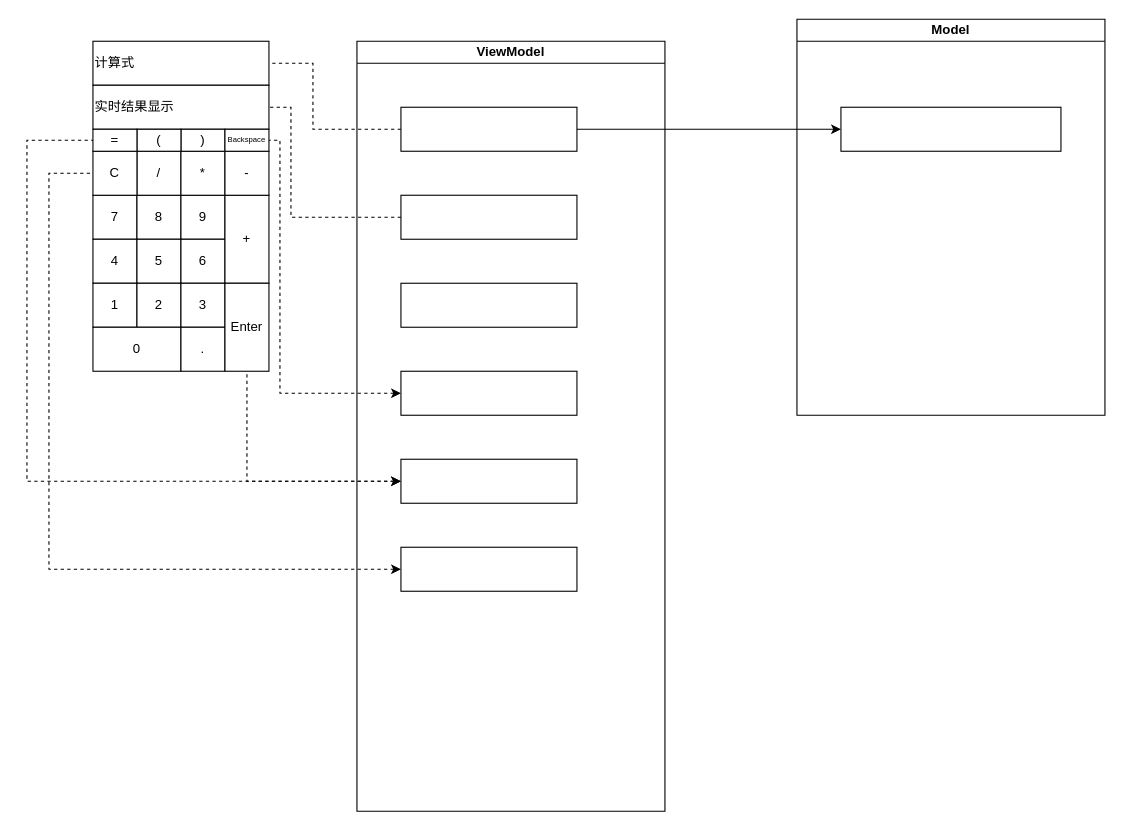
This 1124x831 diagram has some shape labels left out. The shapes that lost their labels are listed below. From the top down, each one's centre as x and y in pixels, then its label:
At point 488,128: "算式".
At point 950,128: "double? Calc(string 算式)".
At point 488,216: "显示值".
At point 488,304: "EnterChar(char)".
At point 488,392: "DeleteChar(char)".
At point 488,480: "Replace()".
At point 488,568: "Clear()".
